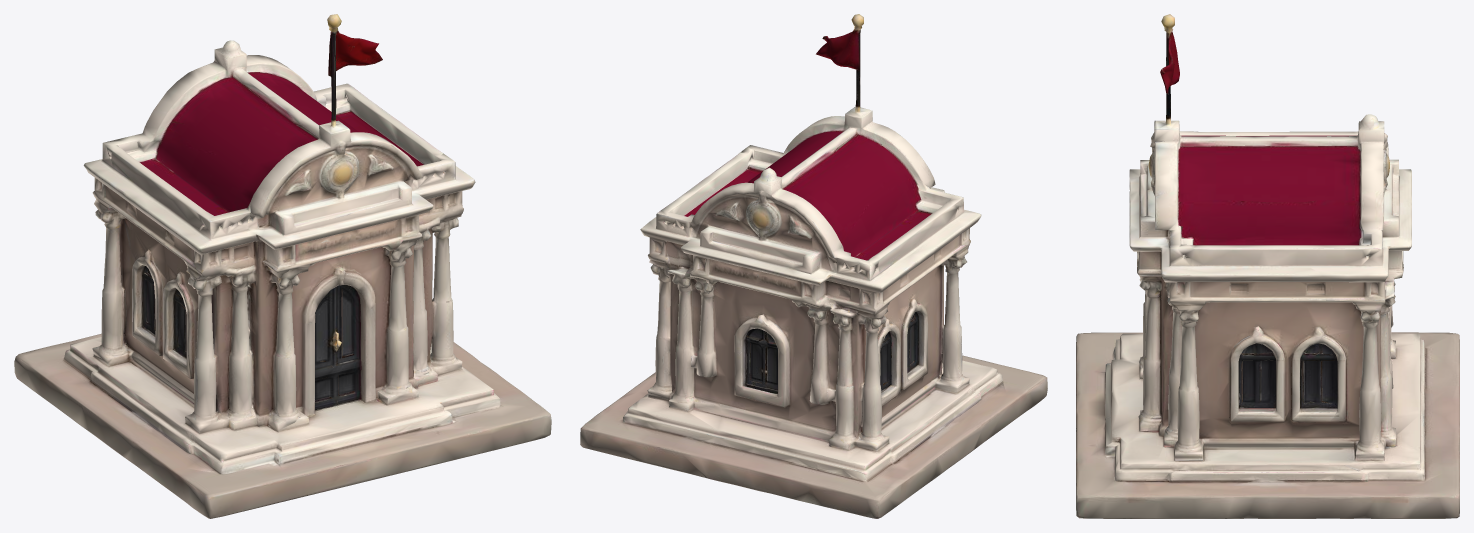
The model's file is special1.glb.
The picture shows the model from 3 angles, left to right: view 1: azimuth 30°, elevation 25°; view 2: azimuth 150°, elevation 25°; view 3: azimuth 270°, elevation 25°; orthographic projection. The views are drawn at different scales.
Visible parts, largest first — view 1: Mesh_0; view 2: Mesh_0; view 3: Mesh_0.
Part boxes in pixels (<box>): Mesh_0: <box>14,14,551,518</box>; Mesh_0: <box>580,14,1047,518</box>; Mesh_0: <box>1076,14,1459,518</box>.
Bounding box in the file's own units: 1.6 × 1.91 × 1.57.
1 material, 1 textured.
